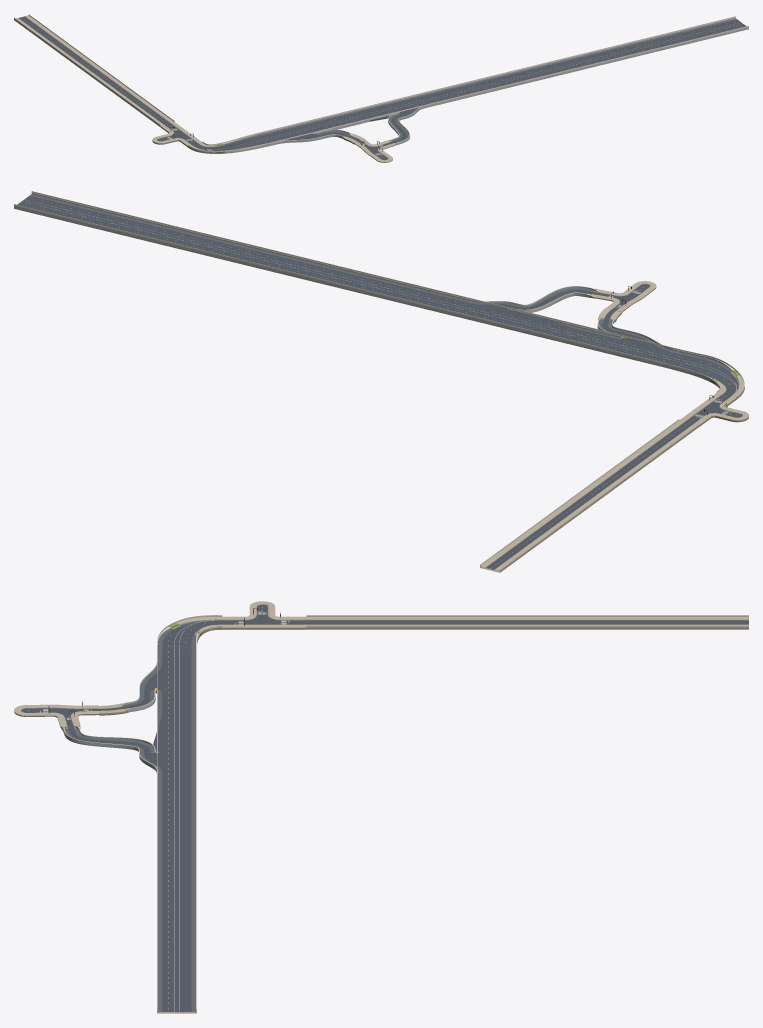
Rendered from rkit_r3_a1b_assembly.glb.
3 renders of one model, top to bottom at view 1: azimuth 30°, elevation 25°; view 2: azimuth 150°, elevation 25°; view 3: azimuth 270°, elevation 25°, orthographic. The views are drawn at different scales.
Parts seen in each view (by area): view 1: RKIT_route_H+OJ, RKIT_route_H, RKIT_parapet_H+OJ, RKIT_route_ramp_in, RKIT_route_off, RKIT_parapet_H; view 2: RKIT_route_H+OJ, RKIT_route_H, RKIT_parapet_H+OJ, RKIT_route_ramp_in, RKIT_parapet_H, RKIT_route_off; view 3: RKIT_route_H+OJ, RKIT_route_H, RKIT_parapet_H, RKIT_route_ramp_in, RKIT_route_off, RKIT_parapet_H+OJ, RKIT_markings_H+OJ.
Part boxes in pixels (bbox=[...]): RKIT_route_H+OJ: bbox=[183, 17, 748, 153]; RKIT_route_H: bbox=[14, 15, 179, 130]; RKIT_parapet_H+OJ: bbox=[188, 16, 748, 152]; RKIT_route_ramp_in: bbox=[385, 106, 425, 146]; RKIT_route_off: bbox=[273, 129, 365, 144]; RKIT_parapet_H: bbox=[14, 14, 174, 125]; RKIT_route_H+OJ: bbox=[14, 192, 744, 403]; RKIT_route_H: bbox=[480, 415, 706, 572]; RKIT_parapet_H+OJ: bbox=[14, 191, 744, 397]; RKIT_route_ramp_in: bbox=[470, 286, 603, 312]; RKIT_parapet_H: bbox=[480, 419, 698, 570]; RKIT_route_off: bbox=[597, 308, 678, 353]; RKIT_route_H+OJ: bbox=[157, 616, 235, 1013]; RKIT_route_H: bbox=[289, 616, 748, 629]; RKIT_parapet_H: bbox=[306, 615, 748, 627]; RKIT_route_ramp_in: bbox=[60, 723, 161, 772]; RKIT_route_off: bbox=[99, 659, 161, 715]; RKIT_parapet_H+OJ: bbox=[157, 615, 222, 1010]; RKIT_markings_H+OJ: bbox=[168, 620, 213, 1011].
Size of the model in its own units: 731 by 10.48 by 549.
